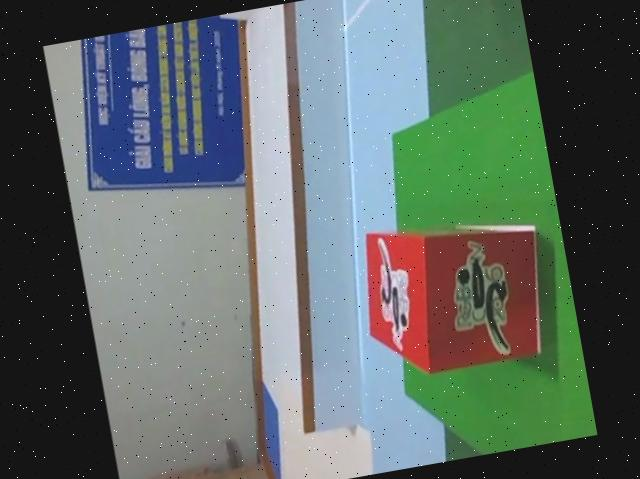R1: (349, 203, 556, 384)
